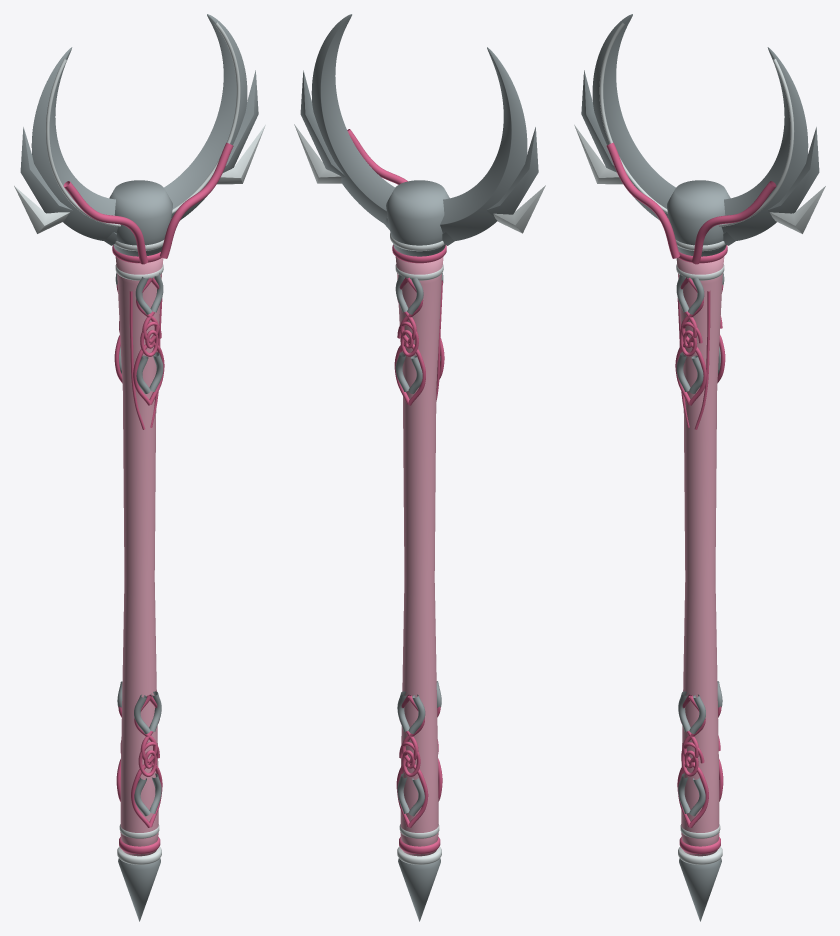
Rendered from sceptre_rose_argent.glb.
3 views of the same model, side by side, from view 1: azimuth 30°, elevation 25°; view 2: azimuth 150°, elevation 25°; view 3: azimuth 330°, elevation 25° (orthographic).
Visible parts, largest first — view 1: Manche ivoire allongé, Grand croissant lunaire, Col du croissant, Nervure du croissant, Griffe extérieure, Pointe inférieure, Volute de monture.001, Volute de monture, Griffe extérieure.001, Éperon latéral, Éperon latéral.001, Arabesque en or.004 (+1 smaller); view 2: Manche ivoire allongé, Grand croissant lunaire, Col du croissant, Griffe extérieure, Pointe inférieure, Griffe extérieure.001, Éperon latéral, Éperon latéral.001, Arabesque en or.006, Volute de monture.001, Arabesque en or.002; view 3: Manche ivoire allongé, Grand croissant lunaire, Col du croissant, Nervure du croissant, Griffe extérieure.001, Pointe inférieure, Volute de monture, Volute de monture.001, Griffe extérieure, Éperon latéral.001, Éperon latéral, Arabesque en or.005 (+1 smaller).
Part boxes in pixels (<box>): Manche ivoire allongé: <box>115,256,163,856</box>; Grand croissant lunaire: <box>31,14,247,241</box>; Col du croissant: <box>109,180,172,256</box>; Nervure du croissant: <box>45,22,240,226</box>; Griffe extérieure: <box>20,127,116,245</box>; Pointe inférieure: <box>118,858,160,921</box>; Volute de monture.001: <box>160,142,233,258</box>; Volute de monture: <box>63,181,148,264</box>; Griffe extérieure.001: <box>171,70,258,218</box>; Éperon latéral: <box>14,186,69,233</box>; Éperon latéral.001: <box>217,124,265,184</box>; Arabesque en or.004: <box>131,695,157,827</box>; Manche ivoire allongé: <box>395,256,443,856</box>; Grand croissant lunaire: <box>311,14,527,240</box>; Col du croissant: <box>386,180,449,256</box>; Griffe extérieure: <box>442,127,538,245</box>; Pointe inférieure: <box>398,858,440,921</box>; Griffe extérieure.001: <box>300,70,389,229</box>; Éperon latéral: <box>493,185,545,233</box>; Éperon latéral.001: <box>294,124,341,183</box>; Arabesque en or.006: <box>401,695,428,827</box>; Volute de monture.001: <box>347,129,407,184</box>; Arabesque en or.002: <box>400,277,425,405</box>; Manche ivoire allongé: <box>676,256,724,856</box>; Grand croissant lunaire: <box>592,14,808,241</box>; Col du croissant: <box>667,180,730,256</box>; Nervure du croissant: <box>599,22,794,226</box>; Griffe extérieure.001: <box>723,127,819,245</box>; Pointe inférieure: <box>679,858,721,921</box>; Volute de monture: <box>606,142,679,258</box>; Volute de monture.001: <box>691,181,776,264</box>; Griffe extérieure: <box>581,70,668,218</box>; Éperon latéral.001: <box>769,186,825,233</box>; Éperon latéral: <box>574,124,622,184</box>; Arabesque en or.005: <box>682,695,708,827</box>.
Bounding box in the file's own units: 1.82 × 6.16 × 0.4364.
